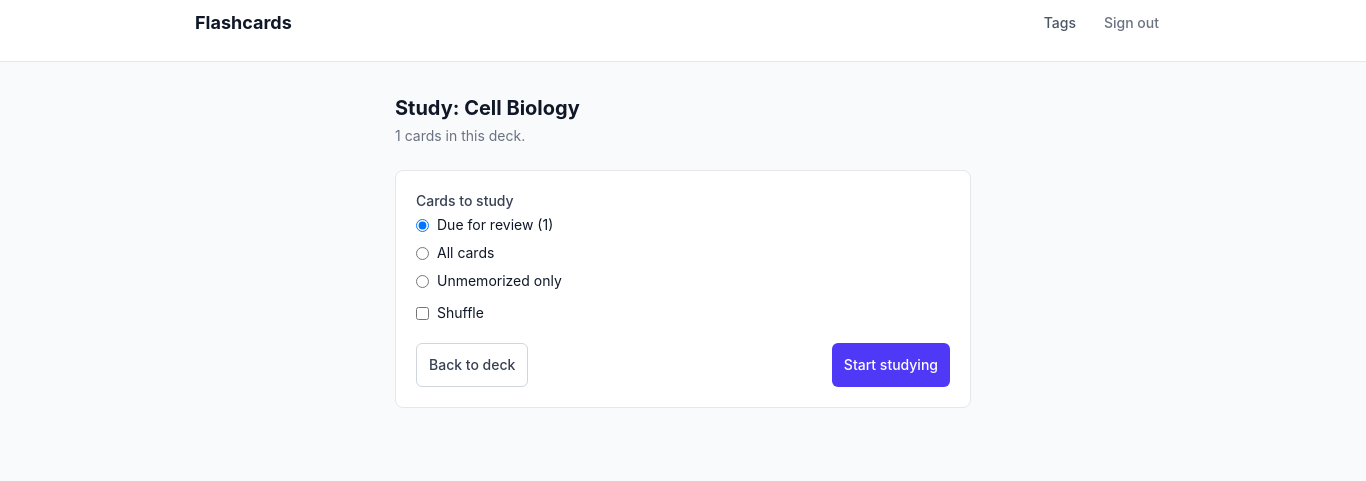
Test: clicking a flipped card flips it back to the question
Click the button "Start studying".
click(891, 365)  # box [832,343,950,387]
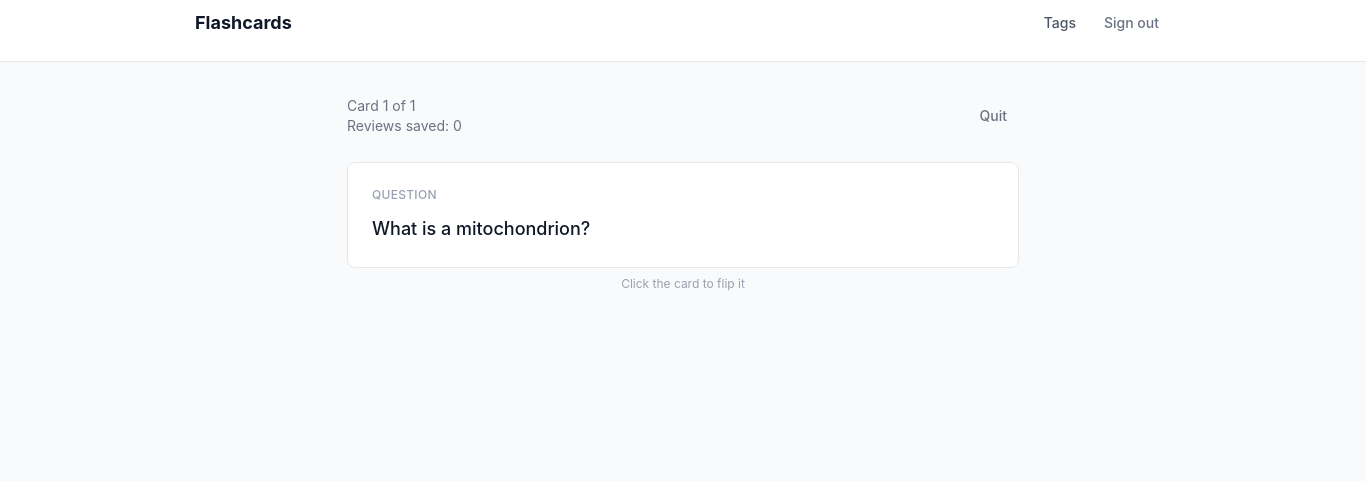
Click the button with aria-label "Flip card".
click(683, 215)  # box [347,162,1019,268]
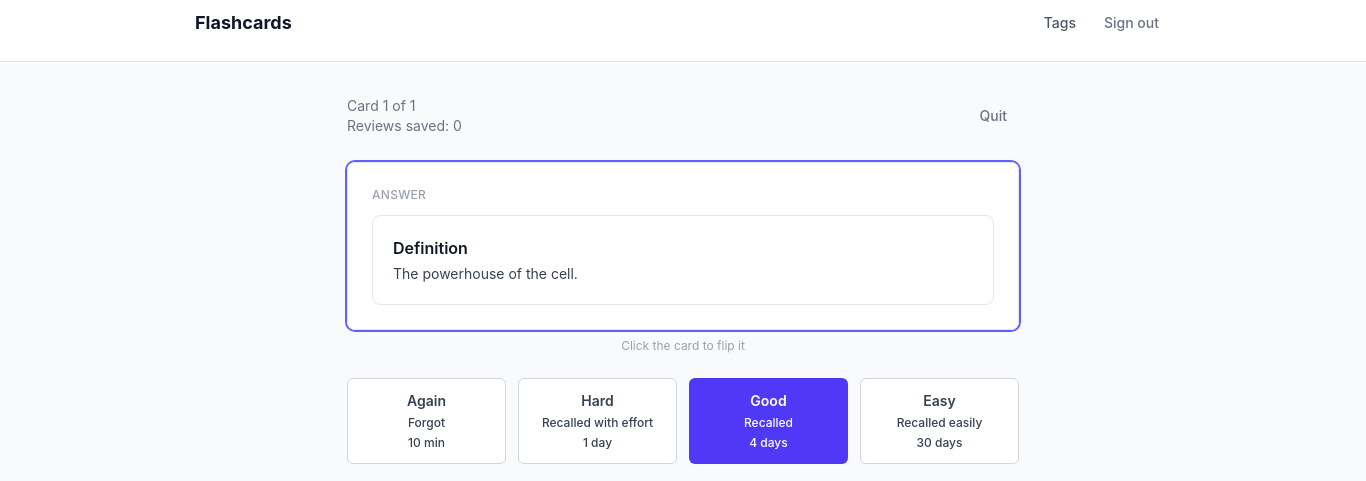
Expected: the button "Good Recalled 4 days" is shown, [689,378,848,464]
Click the button with aria-label "Flip card".
click(683, 246)  # box [347,162,1019,330]
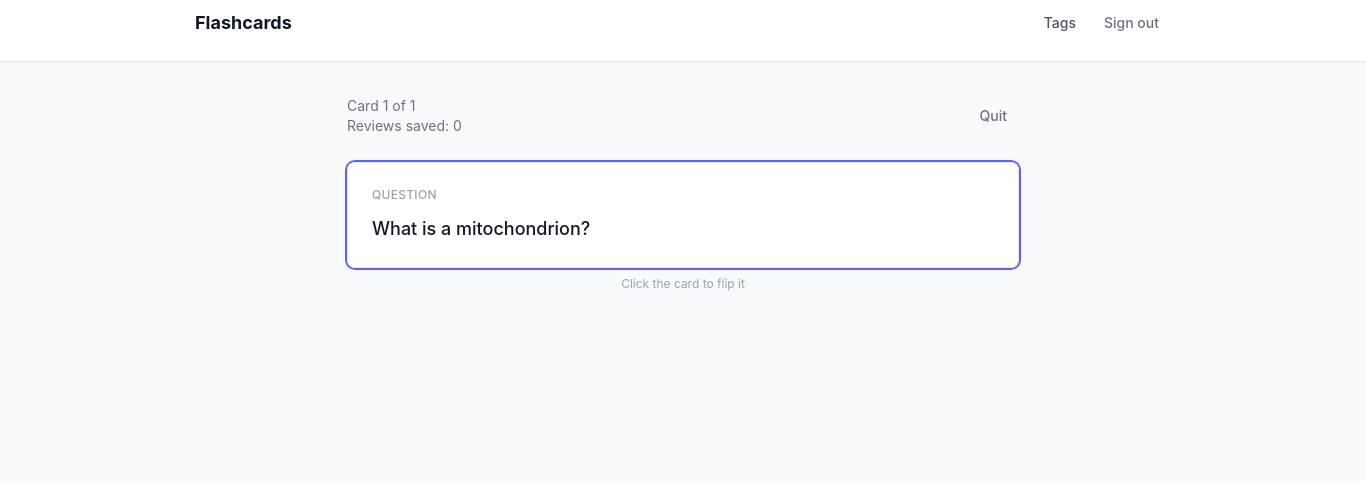
Expected: the text "The powerhouse of the cell." is shown, [788,265,973,282]
Expected: the button "Good Recalled" is gone
